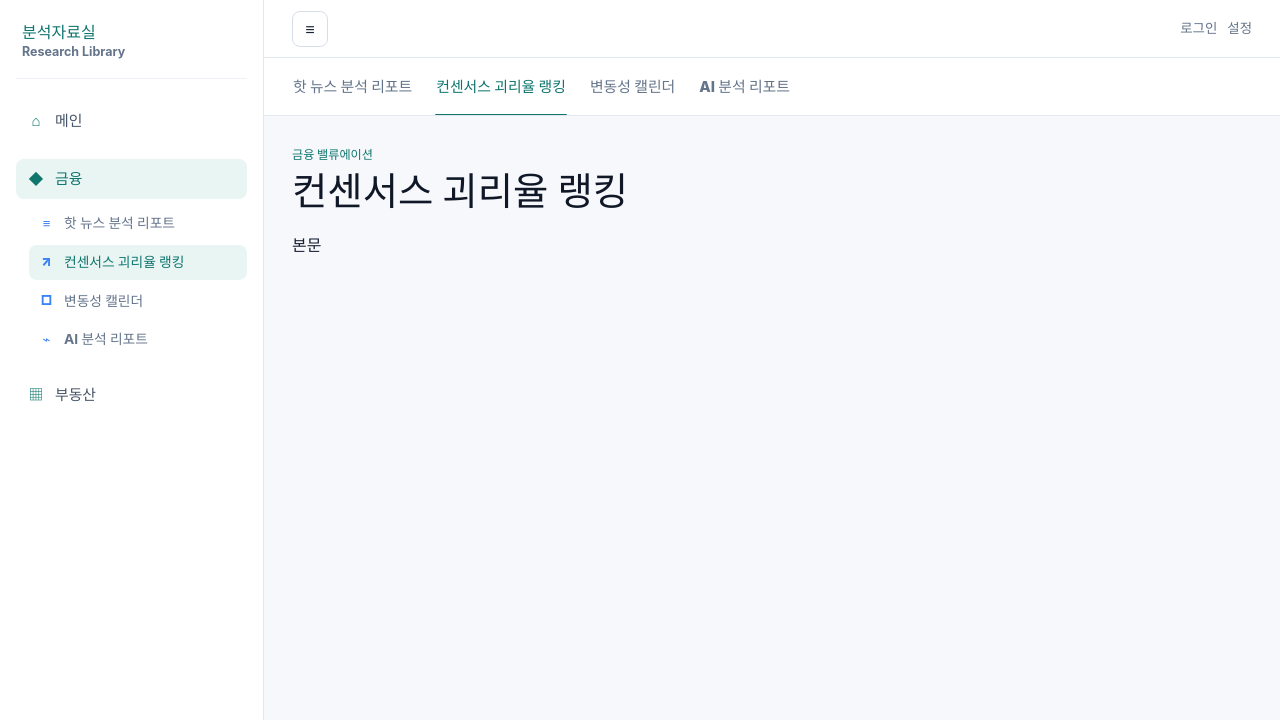
Test case: AppShell › toggles the desktop sidebar from the top row
Click the button named "사이드바 열기 또는 닫기" at (310, 28), box x1=292 y1=10 x2=328 y2=46
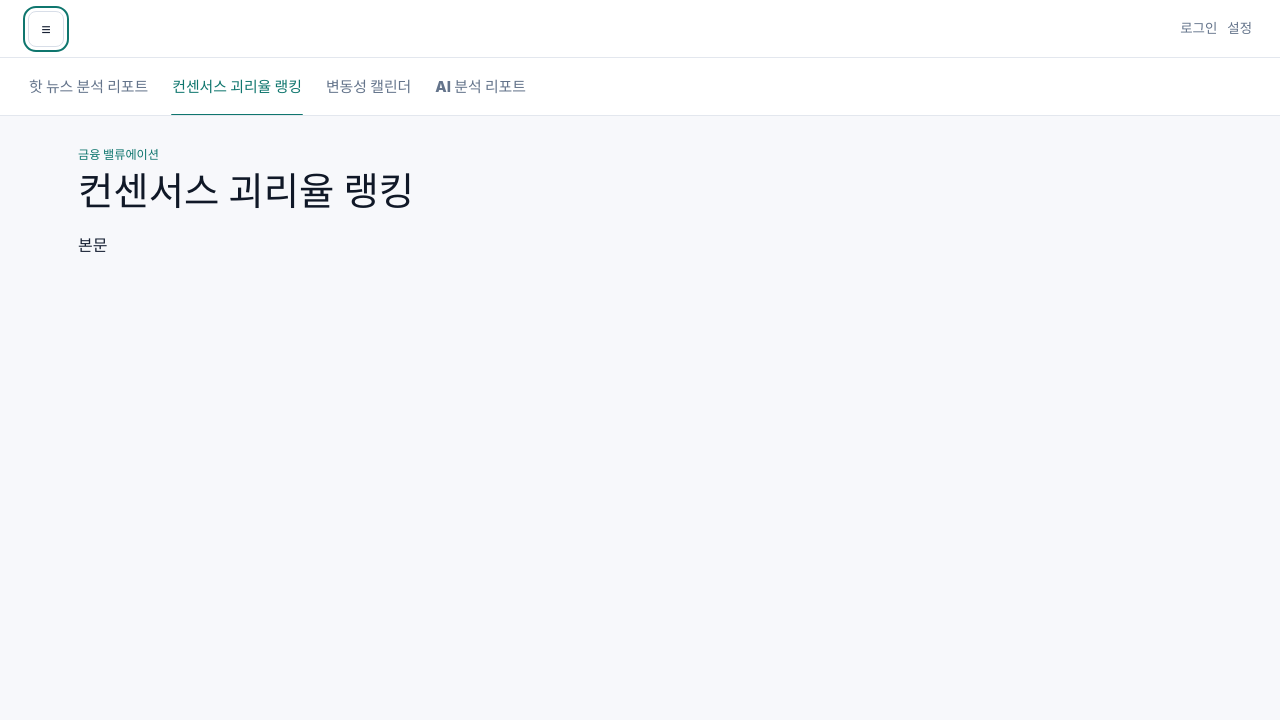
Expected: the button named "사이드바 열기 또는 닫기" is collapsed
Click the button named "사이드바 열기 또는 닫기" at (46, 28), box x1=28 y1=10 x2=64 y2=46
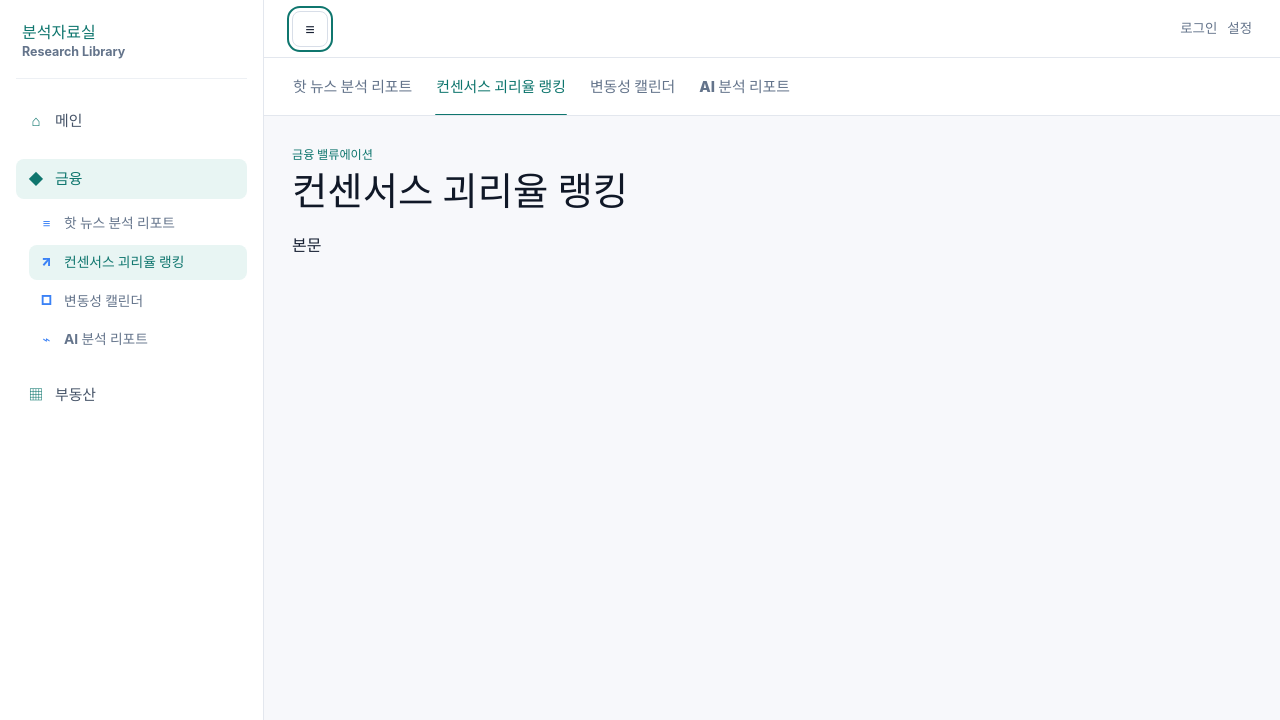
Expected: the button named "사이드바 열기 또는 닫기" is expanded, x1=292 y1=10 x2=328 y2=46
